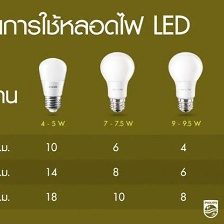light_bulb: (97, 49, 137, 116), (165, 48, 204, 114), (36, 55, 68, 116)
